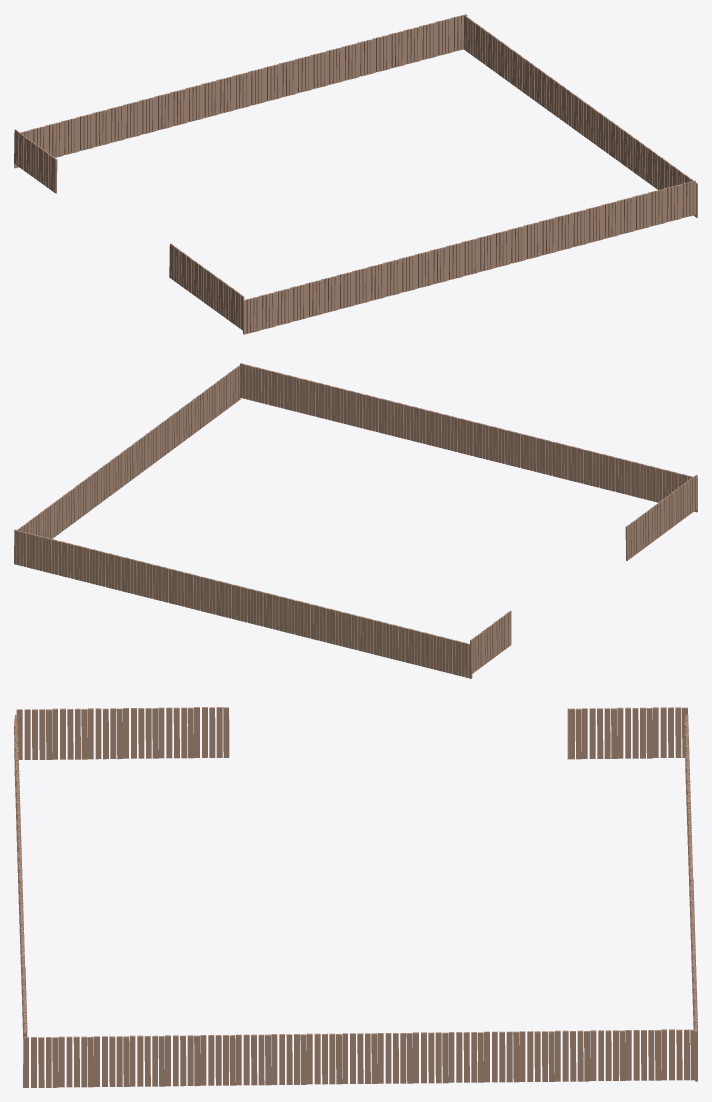
Rendered from TPCS_Zaun_006.fbx.
3 renders of one model, top to bottom at view 1: azimuth 30°, elevation 25°; view 2: azimuth 150°, elevation 25°; view 3: azimuth 270°, elevation 25°, orthographic. The views are drawn at different scales.
Parts seen in each view (by area): view 1: Cube.004; view 2: Cube.004; view 3: Cube.004.
Boxes of the visible parts, x1=… form: Cube.004: x1=14, y1=14, x2=697, y2=334; Cube.004: x1=14, y1=363, x2=697, y2=678; Cube.004: x1=14, y1=707, x2=697, y2=1087.
Bounding box in the file's own units: 1206 × 101 × 1056.
